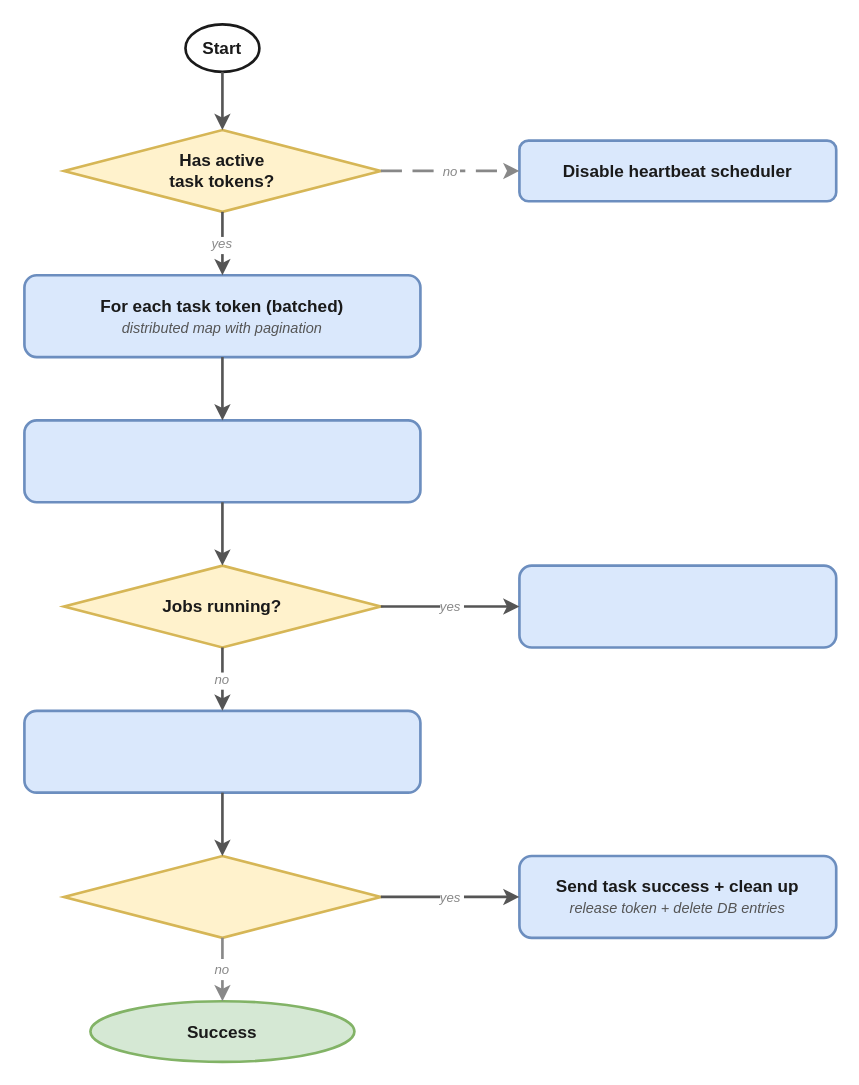
Image size: 859x1085. Some labels were removed from this diagram. Each missing label, with the box of its shape:
All requirements satisfied?: (62, 854, 381, 939)
Check requirements for token verify fastq IDs meet conditions: (22, 709, 421, 793)
Check running jobs for fastq list query APIs for active jobs: (22, 418, 421, 503)
Send heartbeat keep token alive: (517, 564, 837, 648)
